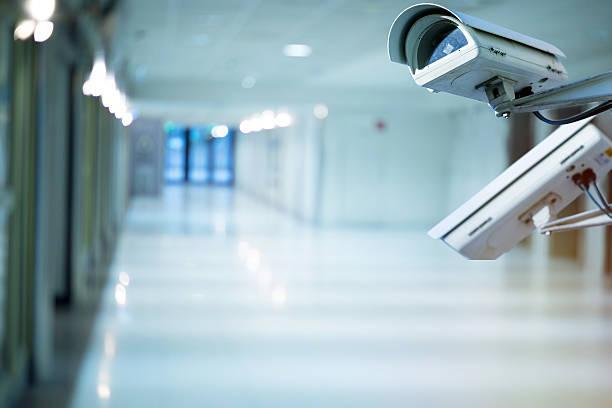camera: (421, 112, 612, 280), (340, 0, 612, 117)
